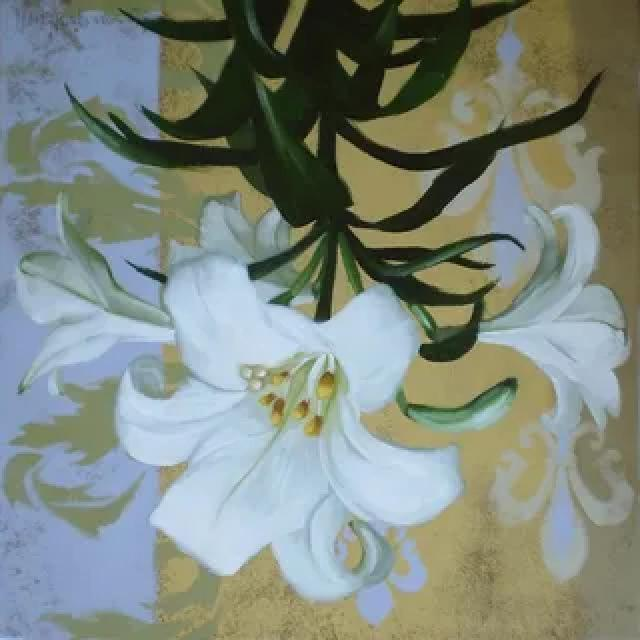lily: (104, 254, 455, 598)
